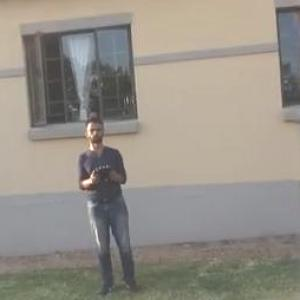follow: (75, 109, 144, 298)
